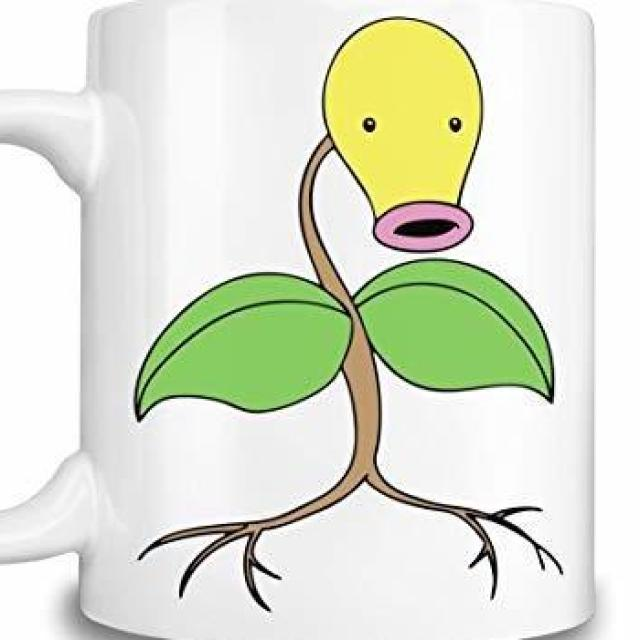Bellsprout: (222, 20, 498, 523)
